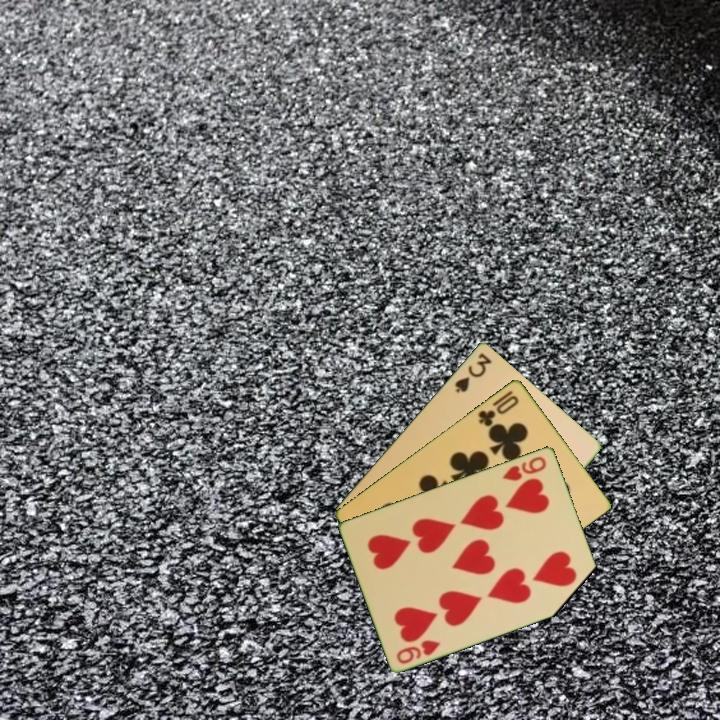10c: (474, 391, 522, 429)
3s: (451, 349, 495, 395)
9h: (499, 452, 549, 483), (393, 636, 443, 667)
